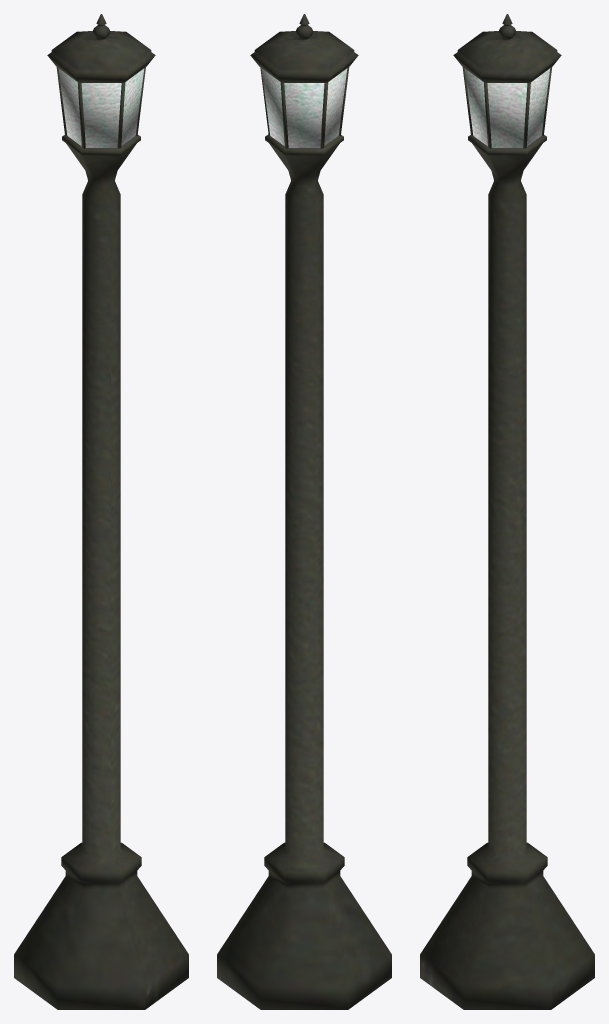
Rendered from Lamp.fbx.
3 views of the same model, side by side, from view 1: azimuth 30°, elevation 25°; view 2: azimuth 150°, elevation 25°; view 3: azimuth 270°, elevation 25° (orthographic).
Parts seen in each view (by area): view 1: Cylinder; view 2: Cylinder; view 3: Cylinder.
Boxes of the visible parts, left/top/right/bottom form: Cylinder: left=14, top=14, right=188, bottom=1009; Cylinder: left=217, top=14, right=391, bottom=1009; Cylinder: left=420, top=14, right=594, bottom=1009.
Size of the model in its own units: 1.73 by 12.16 by 2.
1 material, 1 textured.
